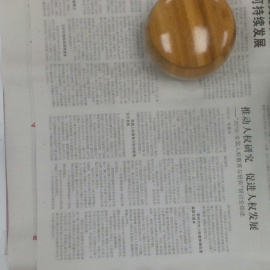chess: (146, 1, 236, 81)
